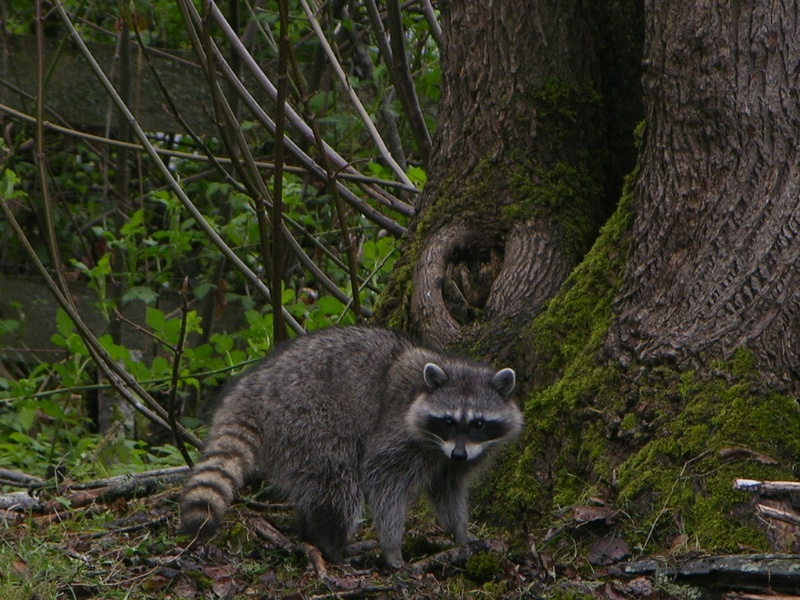raccoon: (181, 325, 526, 563)
